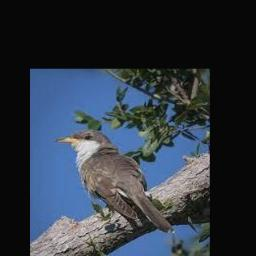Cuckoo: (56, 130, 176, 233)
